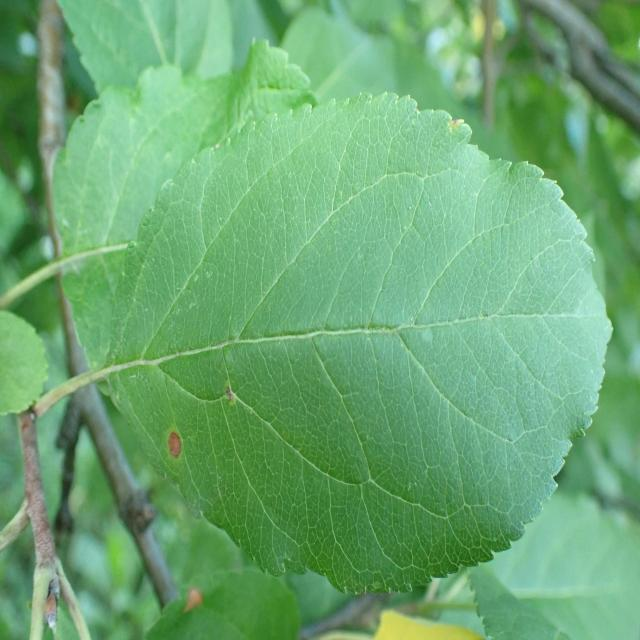Black Rot: (152, 404, 191, 482)
